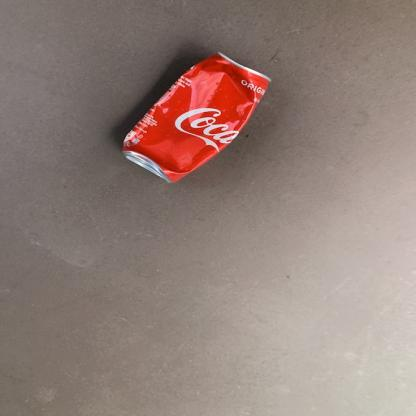trash: (115, 49, 276, 189)
